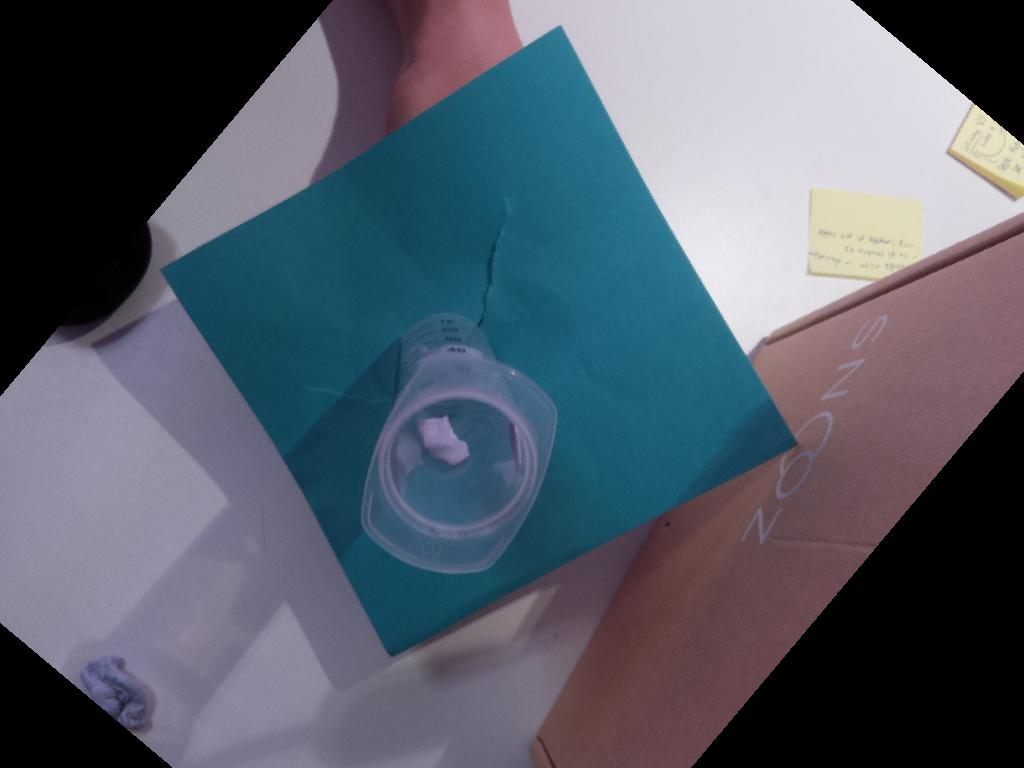dirty: (358, 351, 557, 576)
